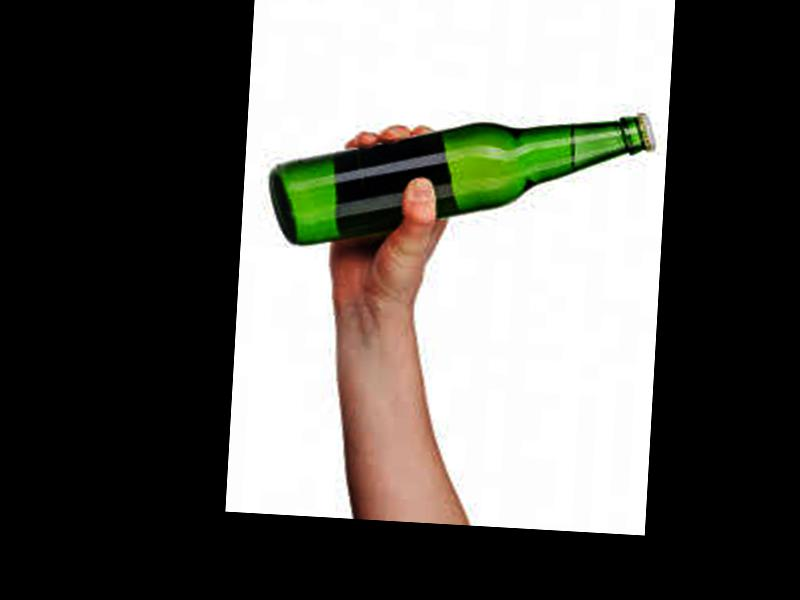Beer: (265, 92, 656, 264)
